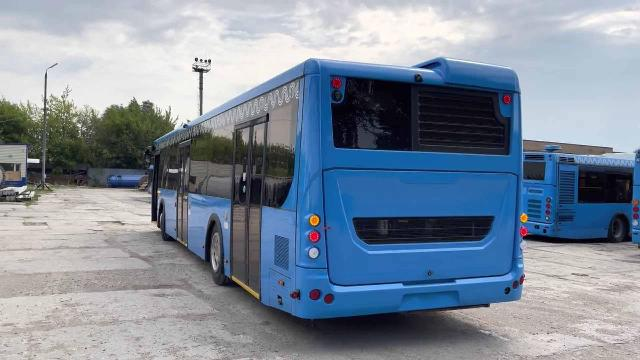bus: (140, 50, 532, 332)
